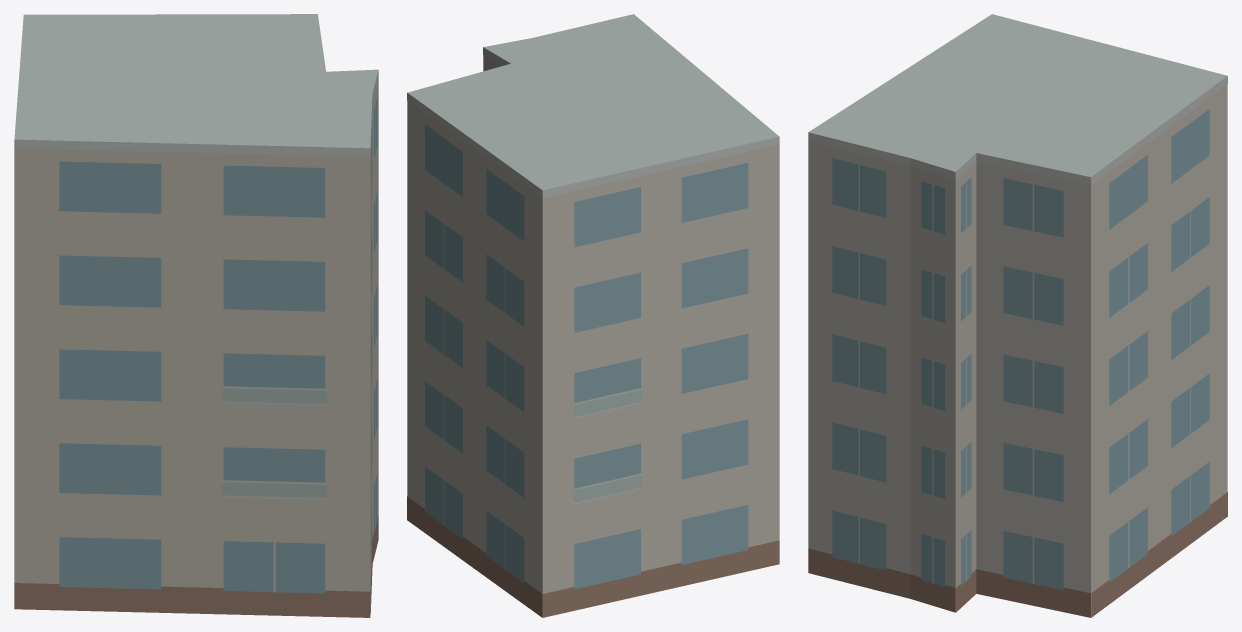
File: survey-upis-33021342.glb
The picture shows the model from 3 angles, left to right: view 1: azimuth 30°, elevation 25°; view 2: azimuth 150°, elevation 25°; view 3: azimuth 270°, elevation 25°; orthographic projection. The views are drawn at different scales.
Parts seen in each view (by area): view 1: survey-upis-33021342.tmp; view 2: survey-upis-33021342.tmp; view 3: survey-upis-33021342.tmp.
Boxes of the visible parts, x1,y1,x2,y2 form: survey-upis-33021342.tmp: (14, 14, 378, 617); survey-upis-33021342.tmp: (407, 14, 779, 617); survey-upis-33021342.tmp: (808, 14, 1227, 617).
Size of the model in its own units: 10.49 by 13.2 by 11.4.
